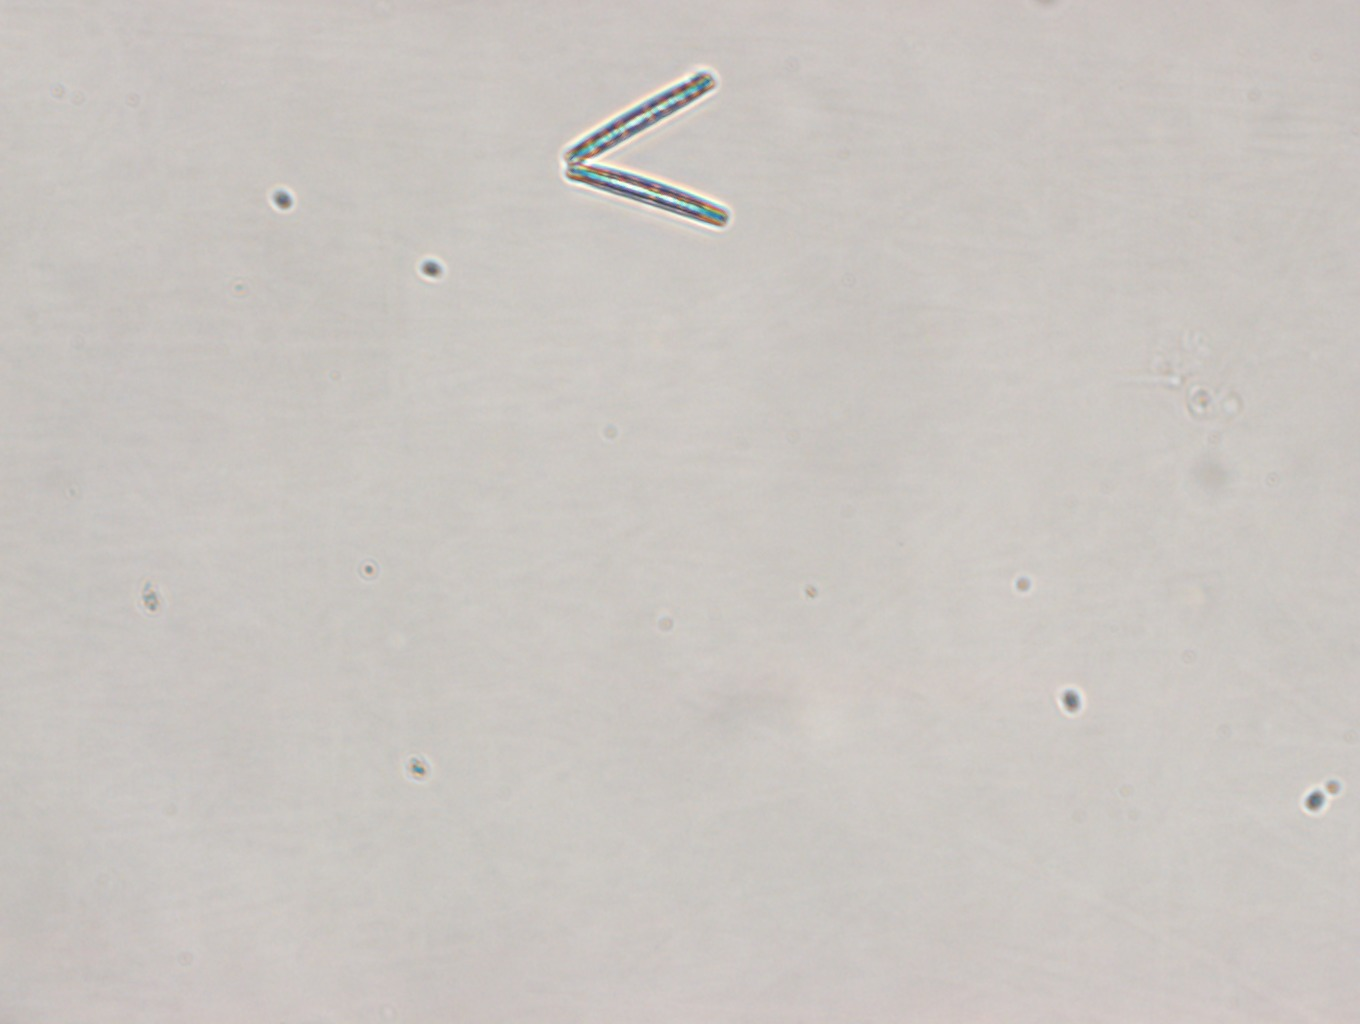thalassionema nitzschioides: (561, 65, 729, 231)
